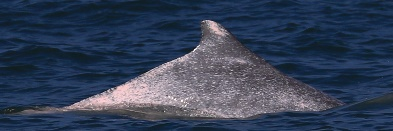fin: (41, 13, 352, 120)
